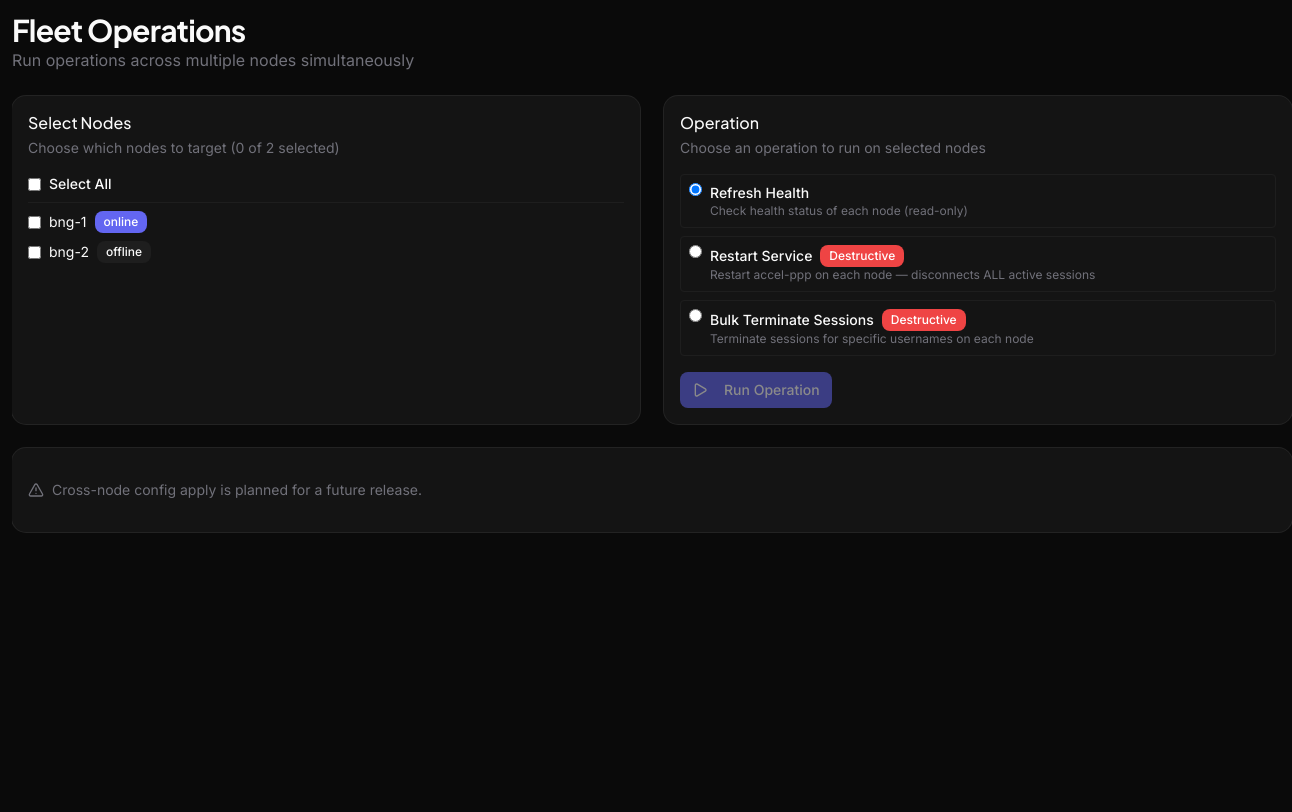
Test case: OperationsManager › displays results table with OK and Failed indicators
Check: the text "bng-1" is shown, box [49,212,87,232]
Click the checkbox named "Select bng-1": (34, 222) [28,216,41,228]
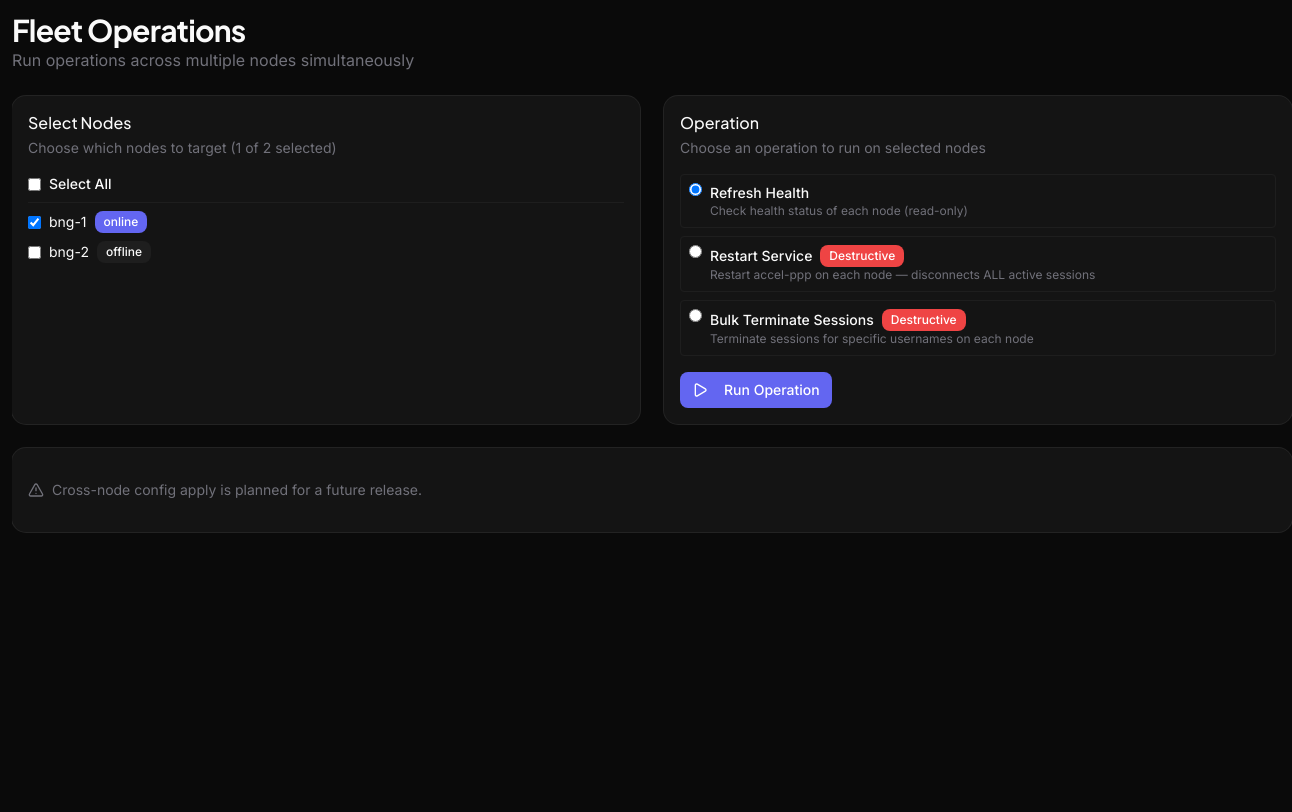
Click the button "Run Operation": (756, 390) [680,372,832,408]
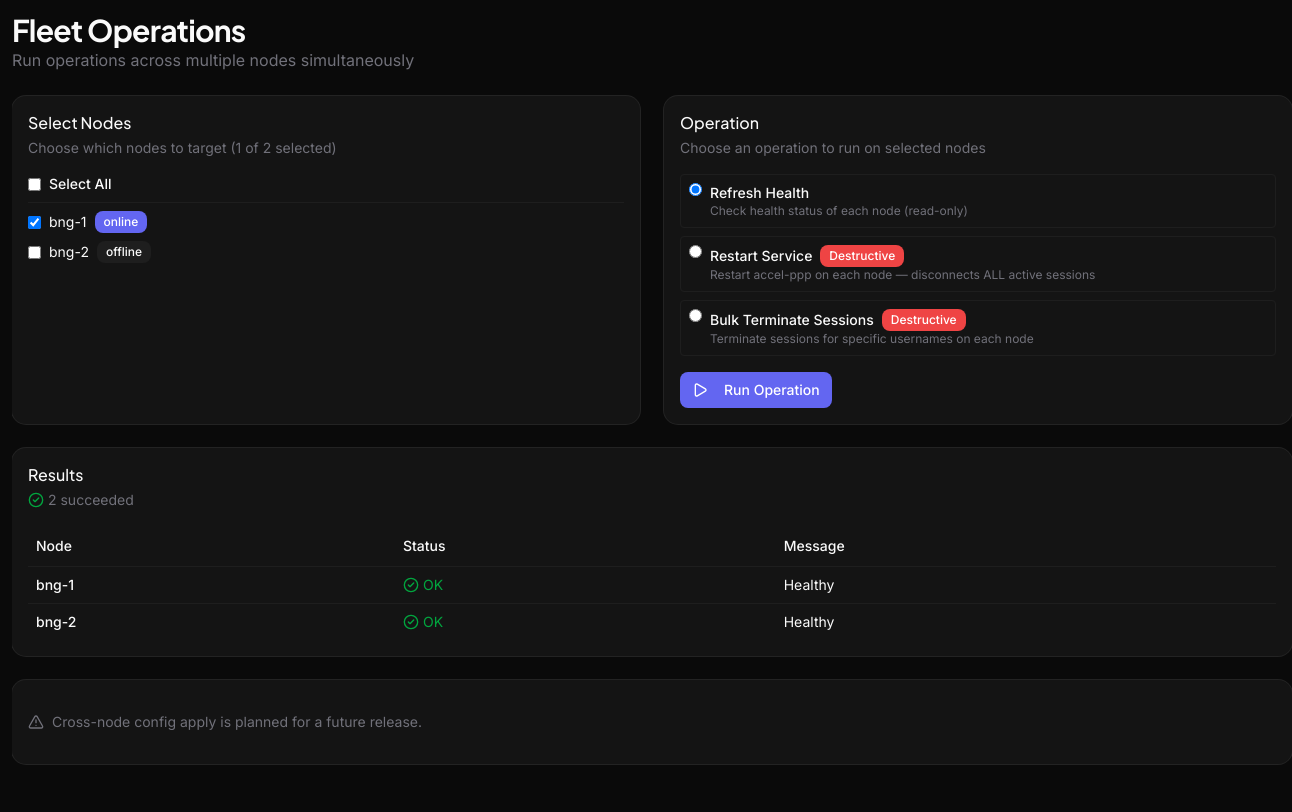
Check: the text "2 succeeded" is shown, box [28,490,134,510]
